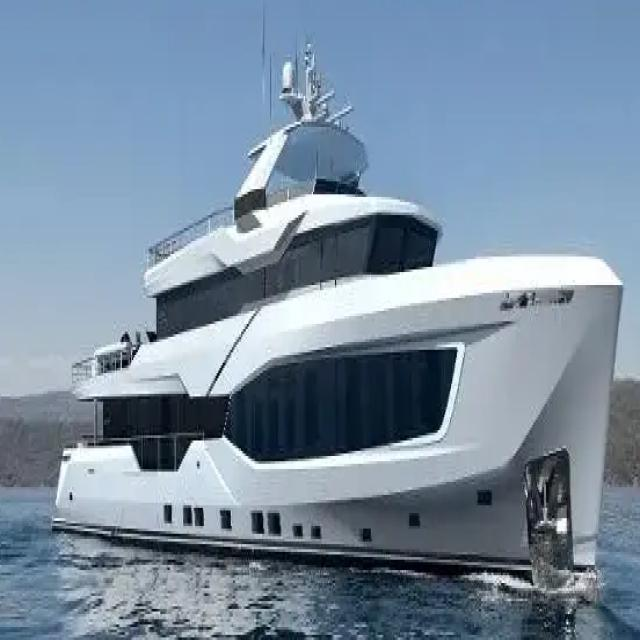houseboat: (46, 42, 614, 640)
